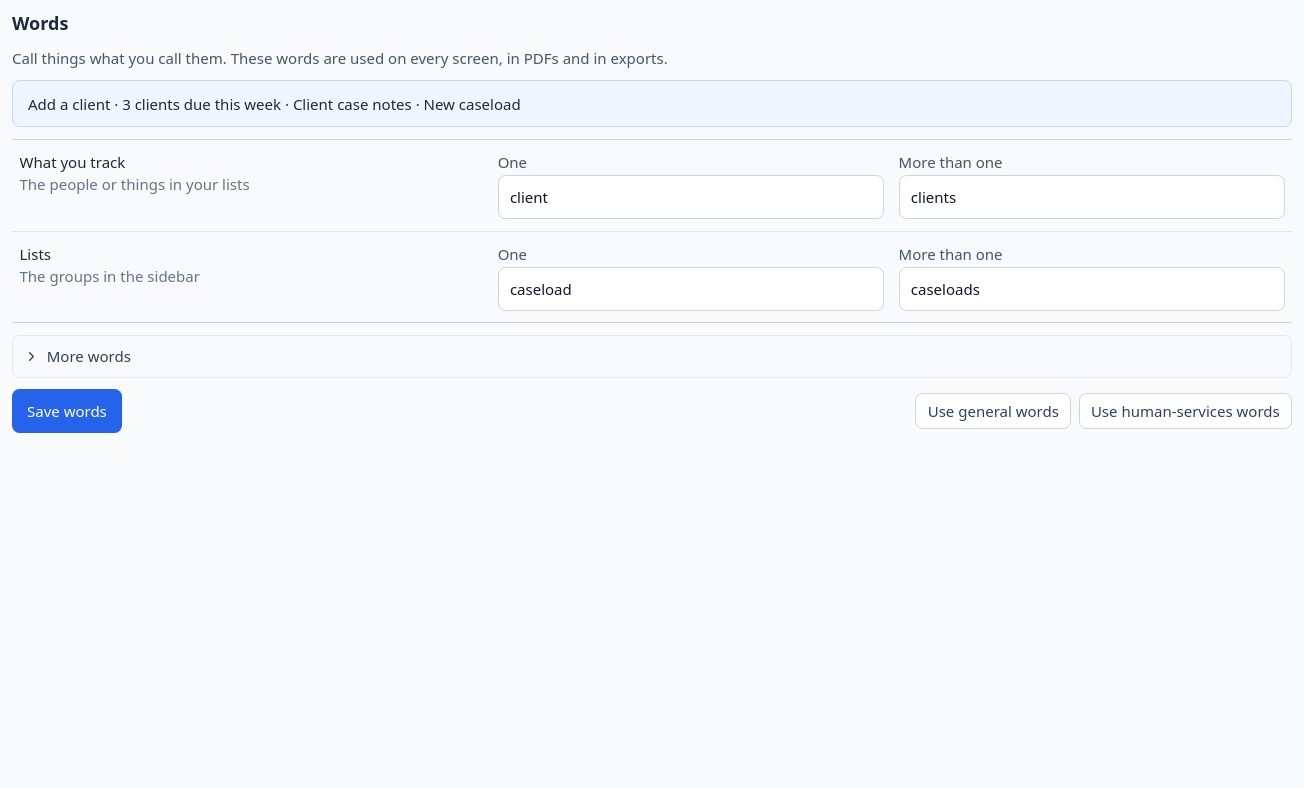
Test: WordsEditor › starts from saved words
The image size is (1304, 788).
Click the button "Use general words".
click(993, 411)  # box [916,393,1071,429]
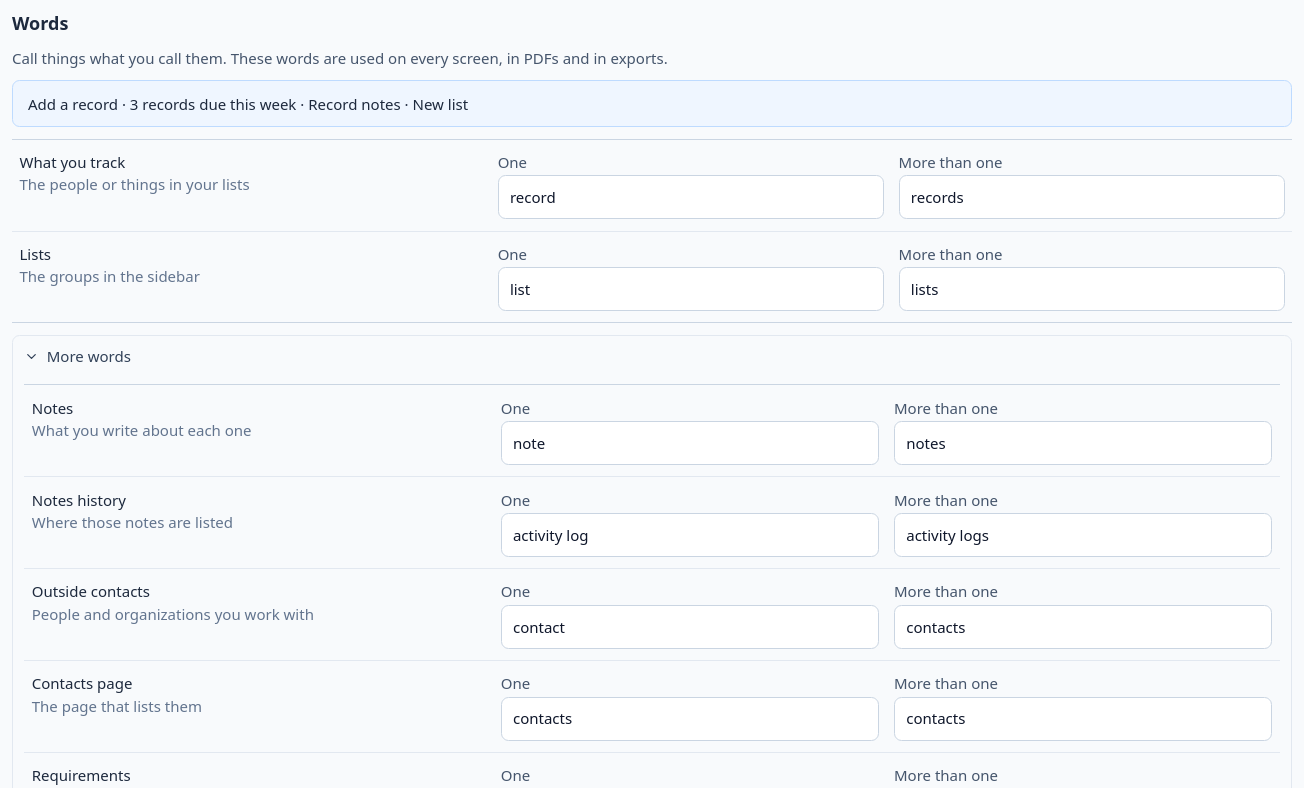
Expected: the field named "Outside contacts: one" holds "contact", [501,605,879,649]
